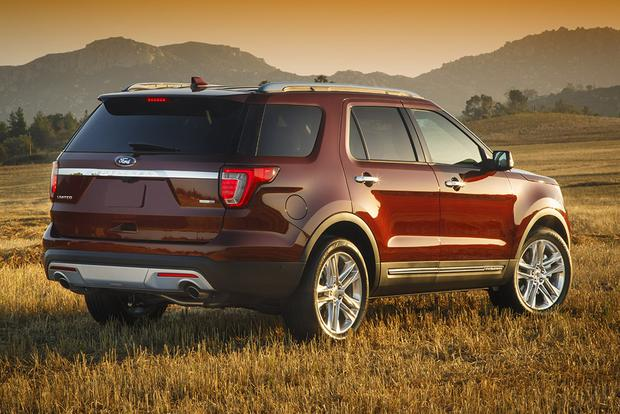Ford Explorer: (41, 75, 574, 350)
